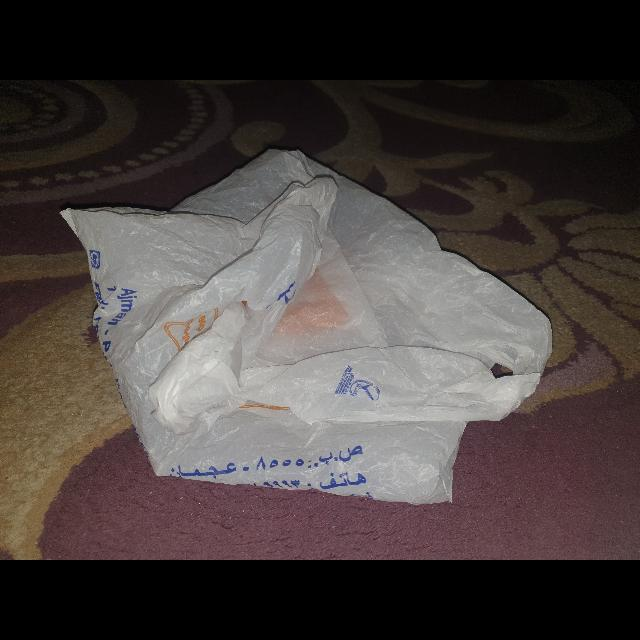plastic_bag: (55, 136, 563, 520)
